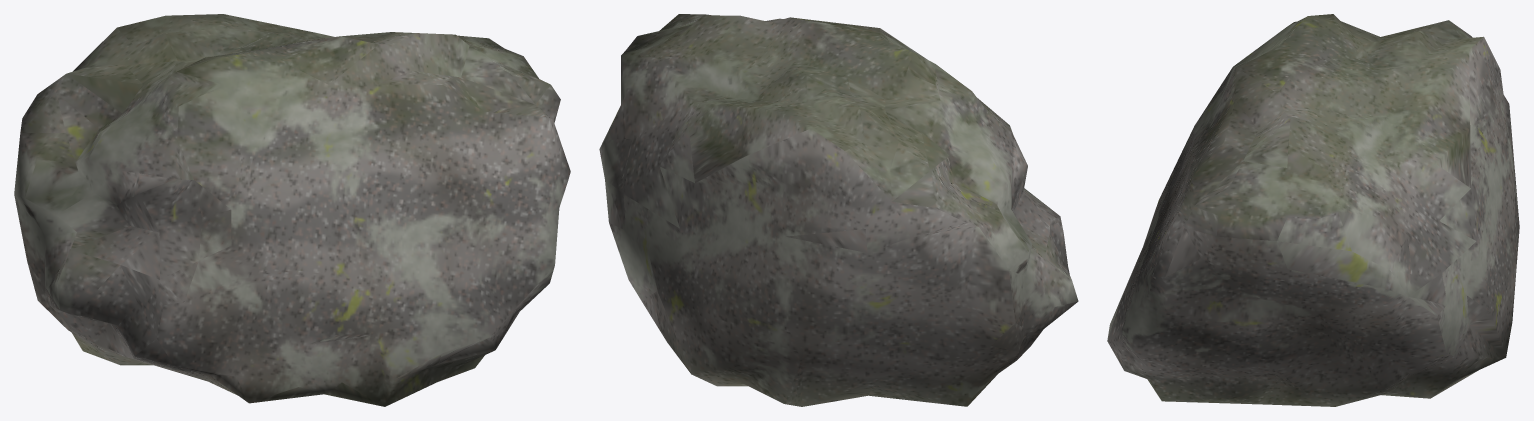
Rendered from boulder_150_LOD1.glb.
3 views of the same model, side by side, from view 1: azimuth 30°, elevation 25°; view 2: azimuth 150°, elevation 25°; view 3: azimuth 270°, elevation 25° (orthographic).
Parts seen in each view (by area): view 1: Boulder_150_LOD1; view 2: Boulder_150_LOD1; view 3: Boulder_150_LOD1.
Part boxes in pixels (x1,y1,x2,y2): Boulder_150_LOD1: (14,14,570,406); Boulder_150_LOD1: (599,14,1078,406); Boulder_150_LOD1: (1107,14,1519,406).
Size of the model in its own units: 1.28 by 0.8347 by 1.01.
Materials: 1 (1 with a texture image).
